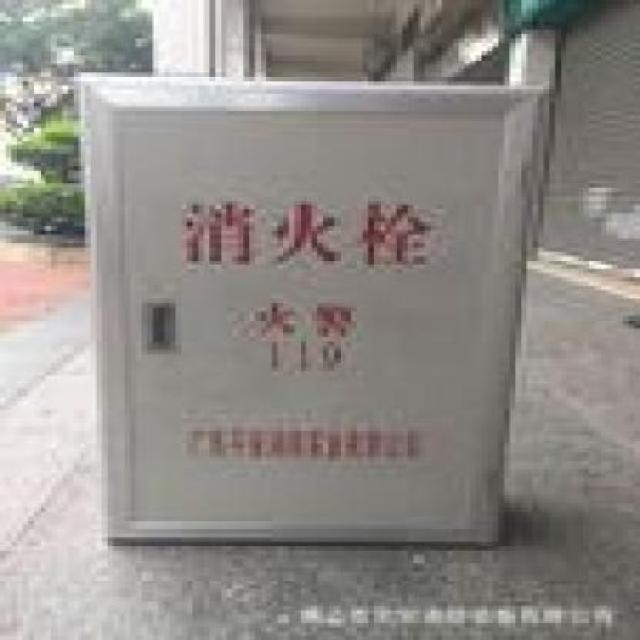firehydrant: (69, 68, 556, 550)
